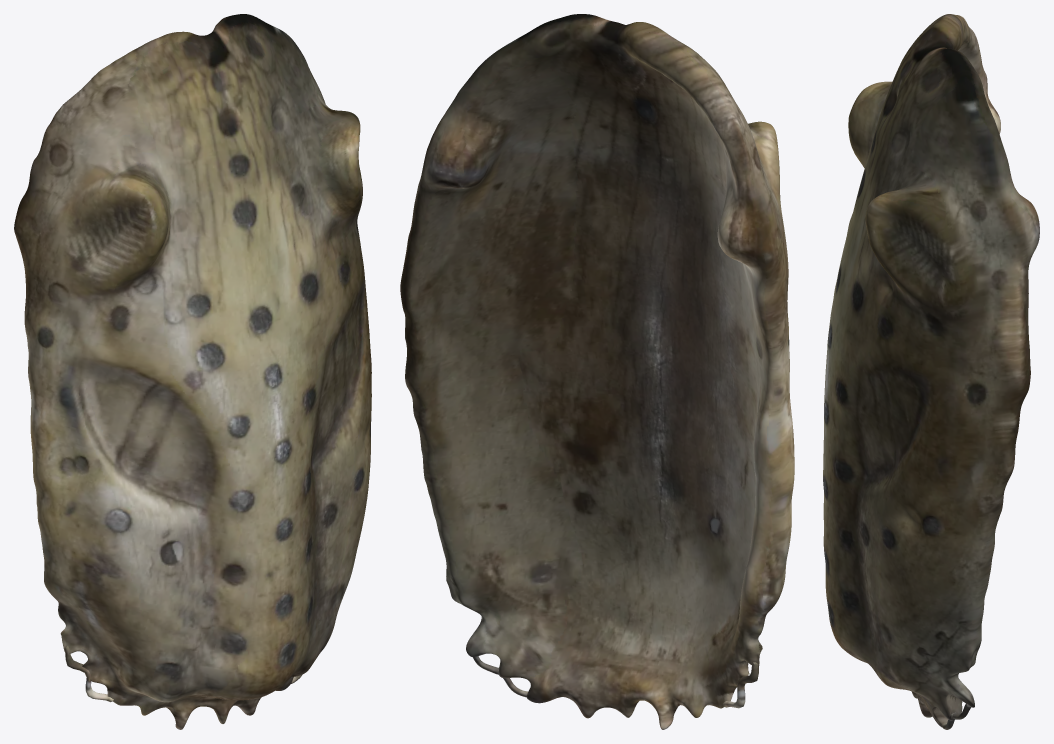
File: preview.glb
The picture shows the model from 3 angles, left to right: view 1: azimuth 30°, elevation 25°; view 2: azimuth 150°, elevation 25°; view 3: azimuth 270°, elevation 25°; orthographic projection. The views are drawn at different scales.
Visible parts, largest first — view 1: Object_2; view 2: Object_2; view 3: Object_2.
Boxes of the visible parts, x1,y1,x2,y2 form: Object_2: (14, 14, 371, 729); Object_2: (400, 14, 794, 729); Object_2: (823, 14, 1039, 729).
Size of the model in its own units: 96.02 by 185 by 54.74.
1 material, 1 textured.
